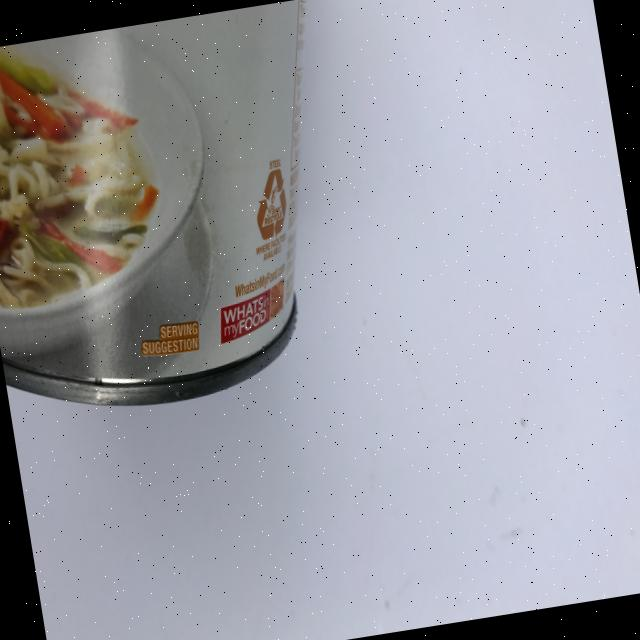metal: (0, 0, 364, 428)
